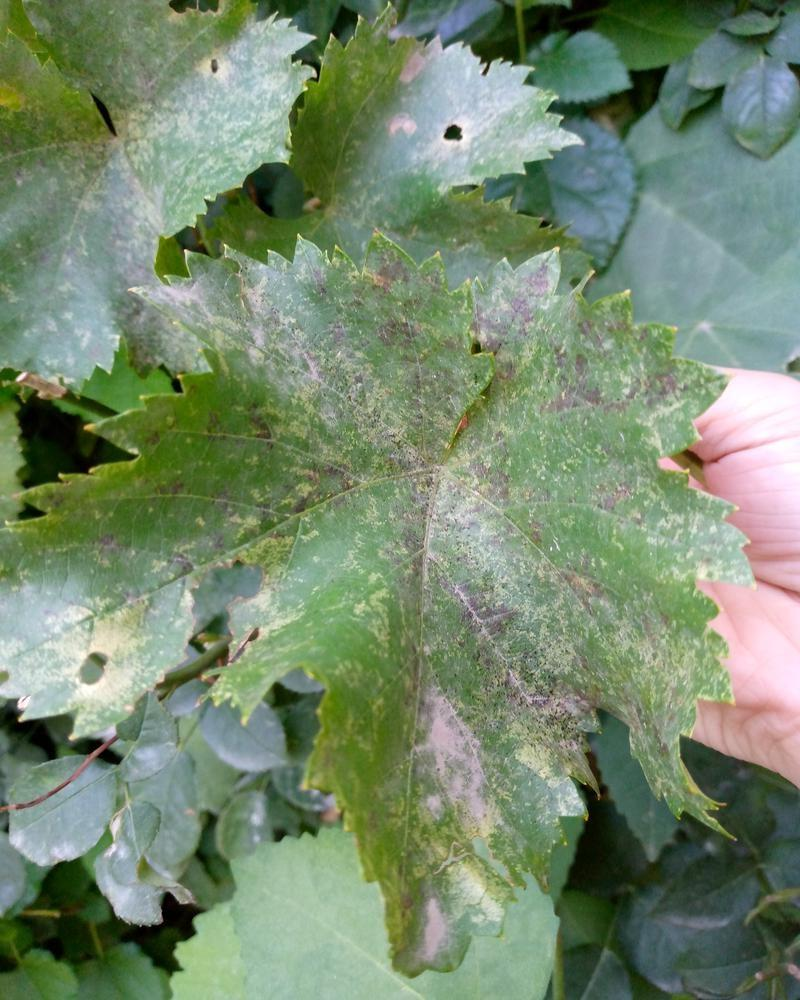Powdery-Mildew: (367, 407, 534, 578), (138, 258, 332, 387), (443, 578, 589, 744), (423, 691, 511, 860), (640, 503, 767, 594), (412, 861, 515, 966), (472, 269, 550, 377), (546, 776, 593, 823)
